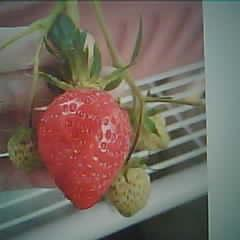straw-ripe: (38, 87, 131, 209)
straw-unripe: (111, 158, 151, 216), (9, 126, 38, 170)
